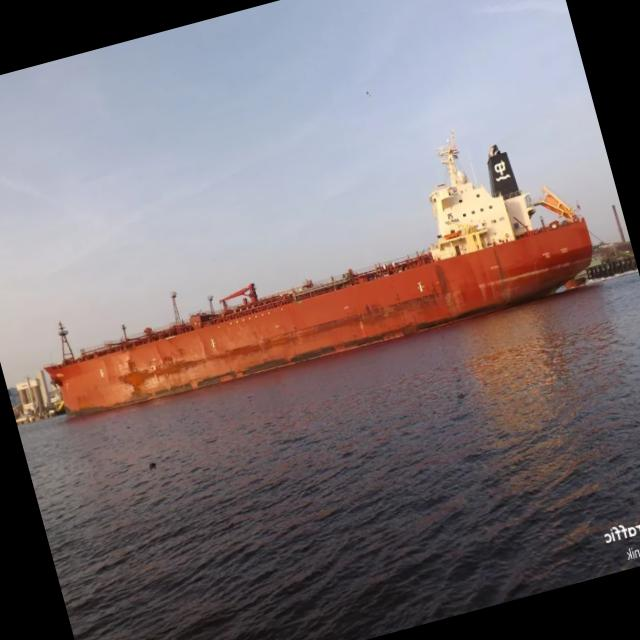Tanker: (45, 134, 592, 412)
